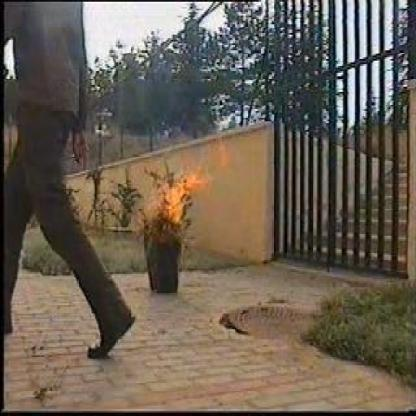foggia-v2-map80-epoch100 - v1 4323: (156, 179, 194, 227)
